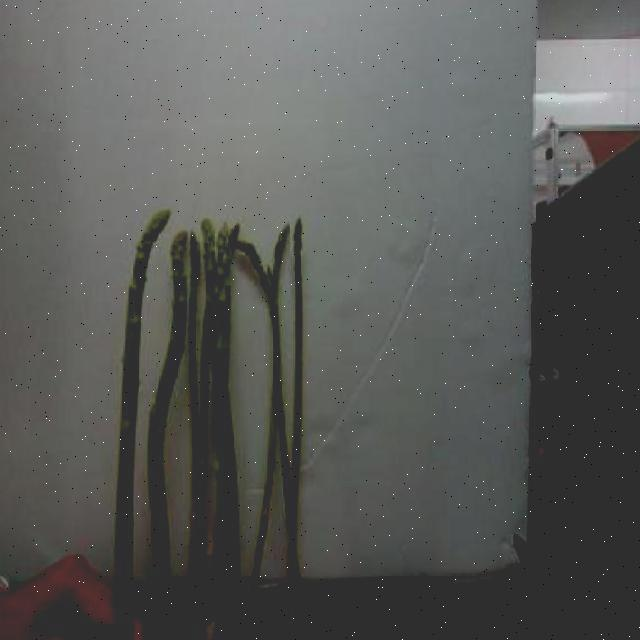aspargus: (107, 210, 170, 596), (287, 219, 306, 580)
